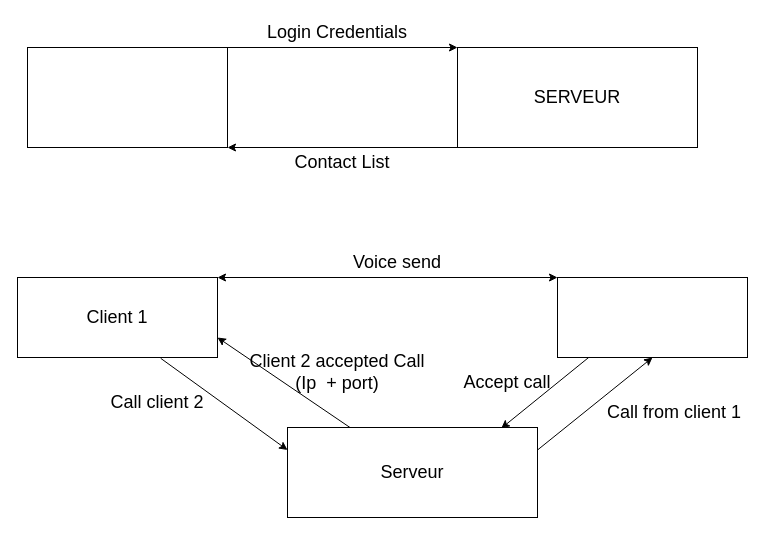
This 765x535 diagram has some shape labels left out. The box of each missing label's shape, as (x1, y1, x2, y2) in pixels:
Client: (26, 46, 228, 148)
Client 2: (556, 276, 748, 358)
